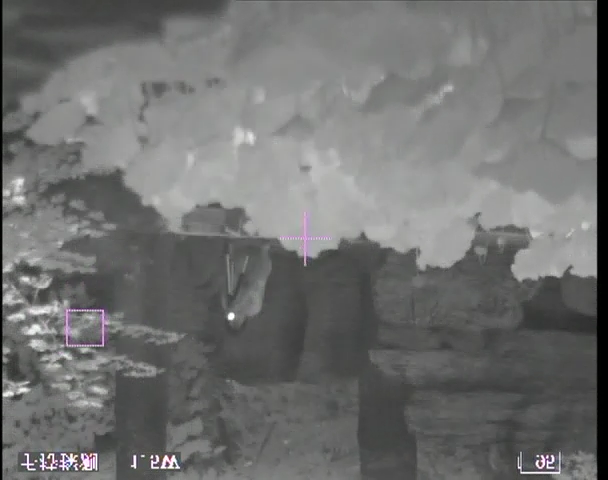my: (226, 310, 236, 322)
